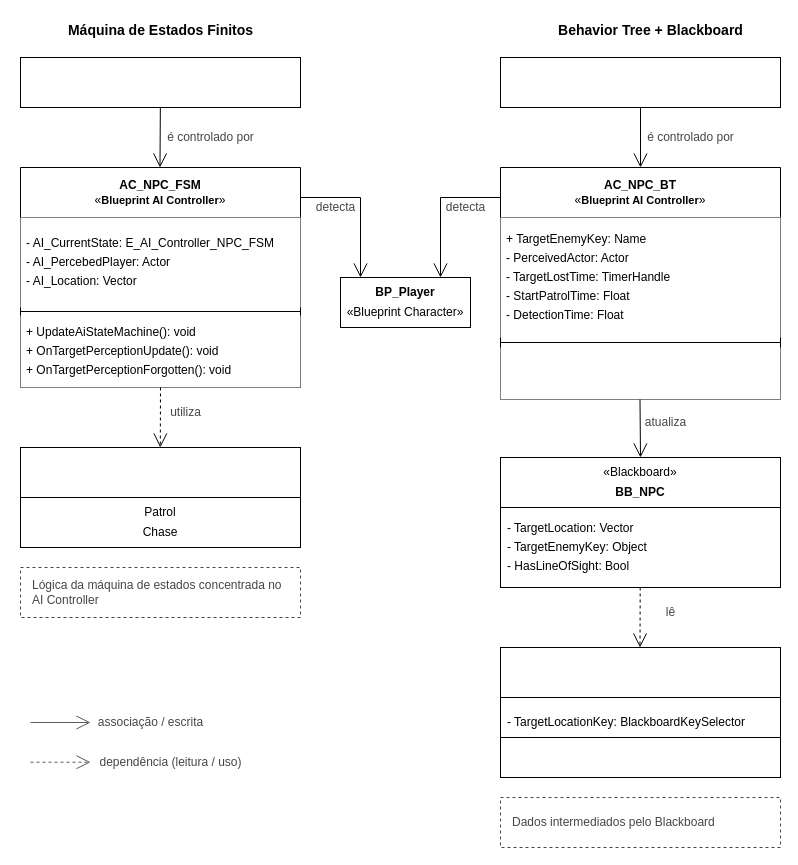
Some shapes in this 798 by 865 pixel diagram are drawn without their labels. The shapes that lost their labels are listed below. From the top down, each one's centre as x and y in pixels, then its label:
At (x=160, y=82): "BP_Char_FSM_AI_Controller «Blueprint Character»".
At (x=640, y=82): "BP_NPC_BT «Blueprint Character»".
At (x=640, y=373): "+ UpdateTargetEnemyKey(): void + UpdateHasLineOfSightKey(): void".
At (x=160, y=472): "«Blueprint Enum» E_AI_Controller_NPC_FSM".
At (x=640, y=672): "«BTTaskBlueprintBase» BTT_FindNavigableLocation".
At (x=640, y=757): "+ ReceiveExecuteAI(): void".
